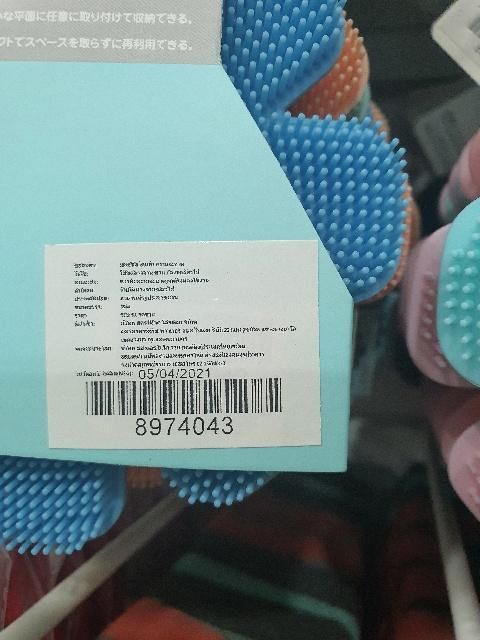Barcode: (82, 377, 284, 442)
